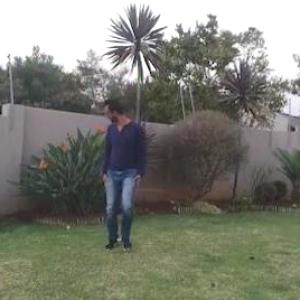follow: (95, 88, 150, 260)
